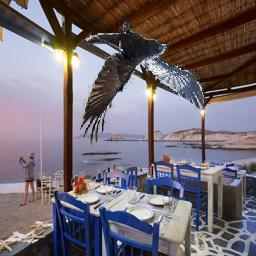Crow: (80, 21, 205, 145)
